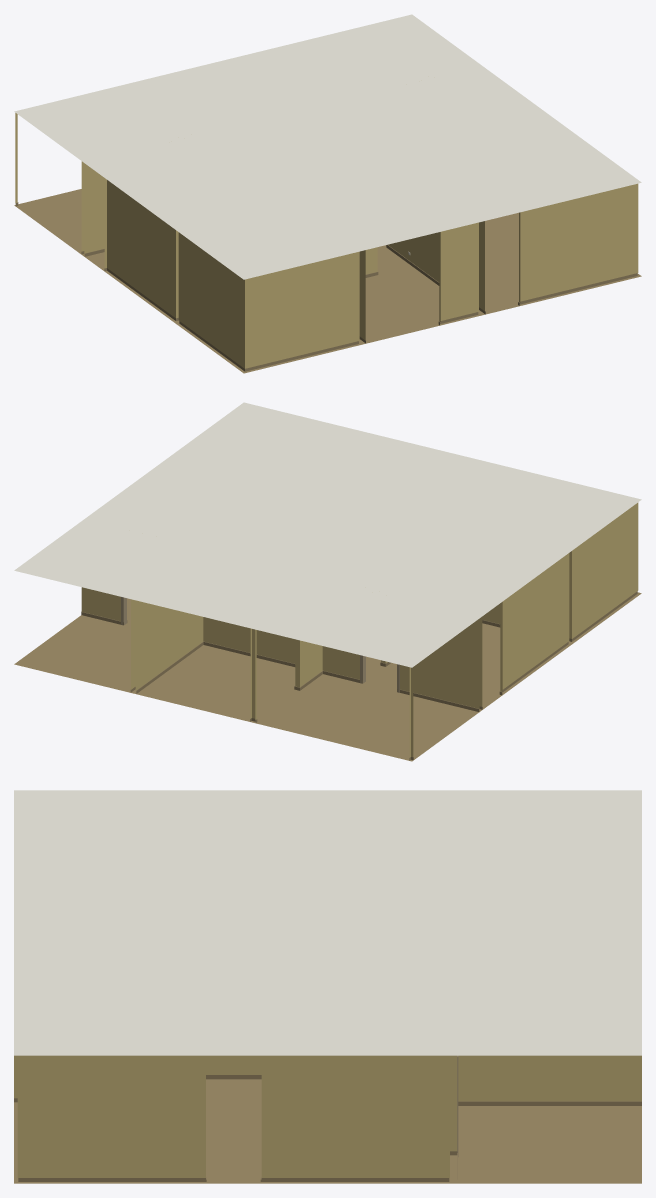
File: chunk_2_3.glb
3 renders of one model, top to bottom at view 1: azimuth 30°, elevation 25°; view 2: azimuth 150°, elevation 25°; view 3: azimuth 270°, elevation 25°, orthographic. The views are drawn at different scales.
Parts seen in each view (by area): view 1: chunk_2_3; view 2: chunk_2_3; view 3: chunk_2_3.
Part boxes in pixels (x1,y1,x2,y2): chunk_2_3: [14, 14, 641, 373]; chunk_2_3: [14, 402, 641, 761]; chunk_2_3: [14, 790, 641, 1183].
Bounding box in the file's own units: 12.03 × 2.7 × 12.
